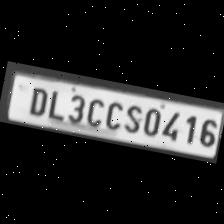0: (139, 103, 164, 136)
1: (177, 110, 200, 144)
3: (64, 90, 89, 124)
4: (158, 106, 184, 142)
6: (194, 114, 220, 148)
C: (82, 92, 106, 128), (101, 96, 125, 130)
D: (22, 82, 50, 117)
L: (44, 86, 68, 121)
S: (119, 98, 144, 134)
